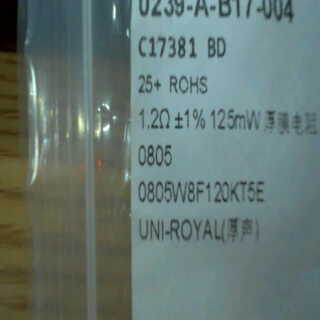1.2R: (138, 106, 176, 170)
